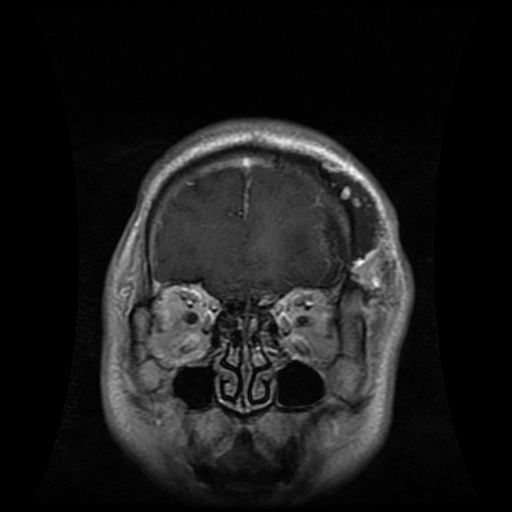glioma: (316, 194, 354, 284)
